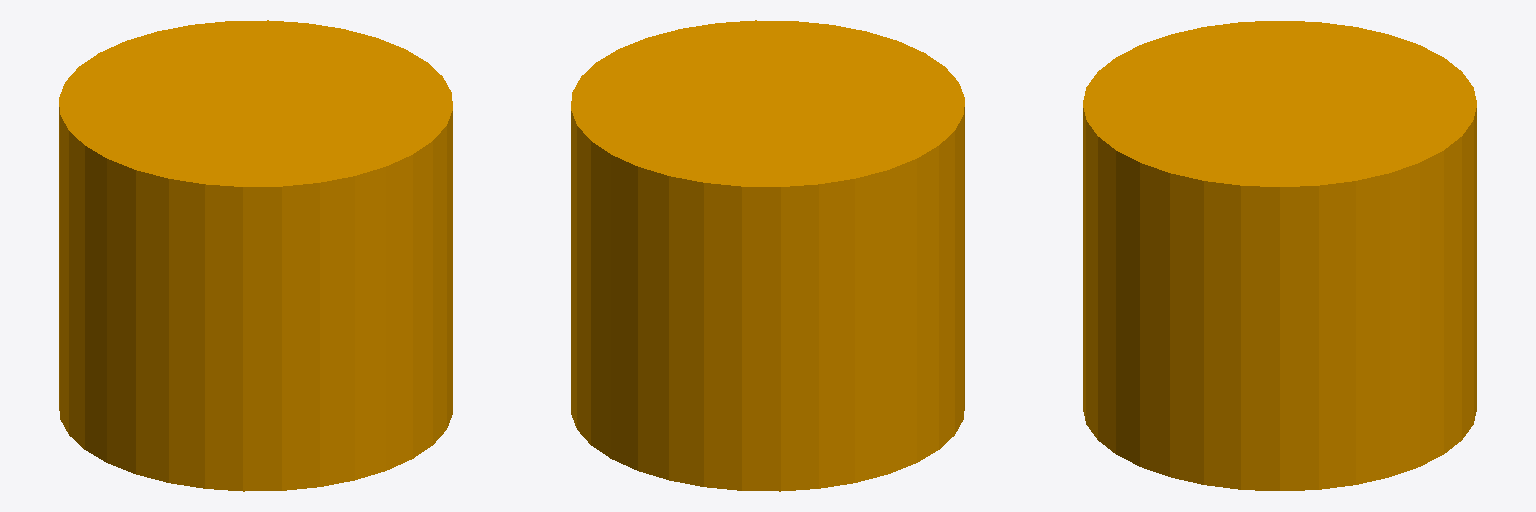
The robot description file, URDF, robot "object":
<robot name="object">
  <link name="object">
    <visual>
      <origin xyz="0 0 0" />
      <geometry>
        <cylinder length="0.068" radius="0.04" />
      </geometry>
    </visual>

    <collision>
      <origin xyz="0 0 0" />
      <geometry>
        <cylinder length="0.068" radius="0.04" />
      </geometry>
    </collision>

    <inertial>
      <mass value="0.05" />
      <inertia ixx="0.0001" ixy="0.0" ixz="0.0" iyy="0.0001" iyz="0.0" izz="0.0001" />
    </inertial>
  </link>
</robot>

--- What the picture shows (computed from the rendered views, not written in the file) ---
3 views of the same robot in one strip: view 1: azimuth 30°, elevation 25°; view 2: azimuth 150°, elevation 25°; view 3: azimuth 270°, elevation 25° (orthographic).
Robot: object — 1 links, 0 joints (none); root link object; default pose: every joint at zero.
Links seen in each view (by area): view 1: object; view 2: object; view 3: object.
Boxes of the visible links, box(x1,y1,x2,y2) form: object: box(59, 20, 452, 491); object: box(571, 20, 964, 491); object: box(1083, 21, 1476, 490).
Size in the robot's own frame: 0.08 by 0.08 by 0.068 metres.
Geometry: primitives only (box / cylinder / sphere), no mesh files.